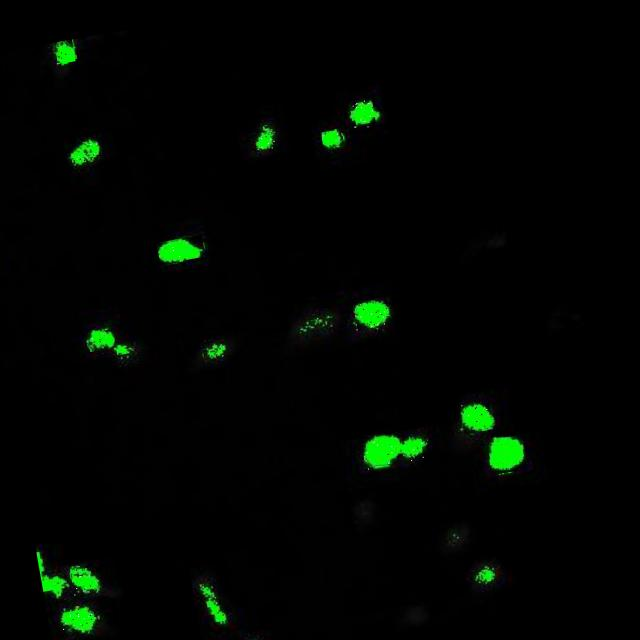Cell: (360, 426, 430, 472), (482, 433, 528, 476), (457, 395, 495, 435), (156, 234, 205, 264), (352, 298, 391, 332), (59, 606, 96, 632), (70, 563, 98, 595), (348, 98, 376, 128), (86, 328, 116, 352), (73, 140, 100, 166), (52, 39, 78, 64), (253, 127, 277, 150), (320, 128, 343, 148)
